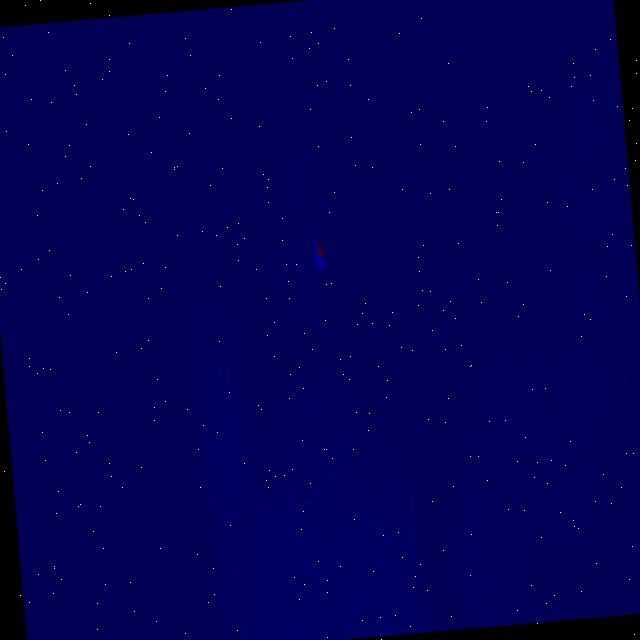hand: (170, 274, 284, 544)
